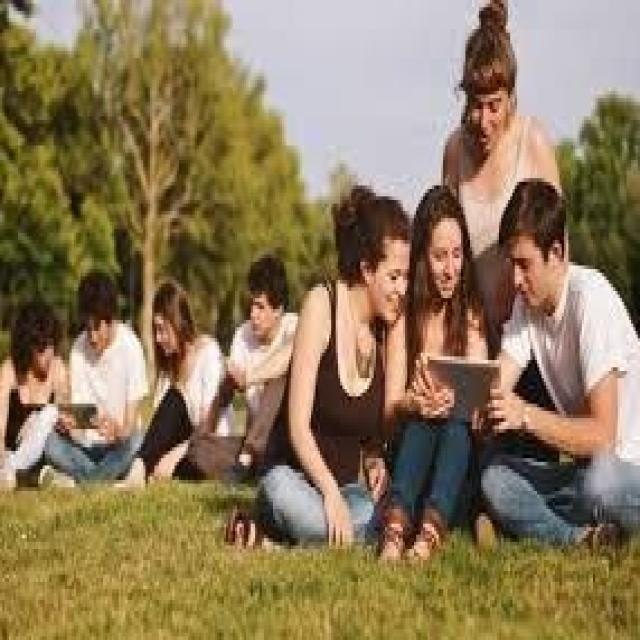person: (466, 171, 634, 538), (264, 160, 394, 556), (378, 164, 481, 567), (430, 0, 555, 320), (34, 222, 143, 531), (188, 218, 302, 458), (116, 272, 242, 483), (0, 262, 83, 516)
